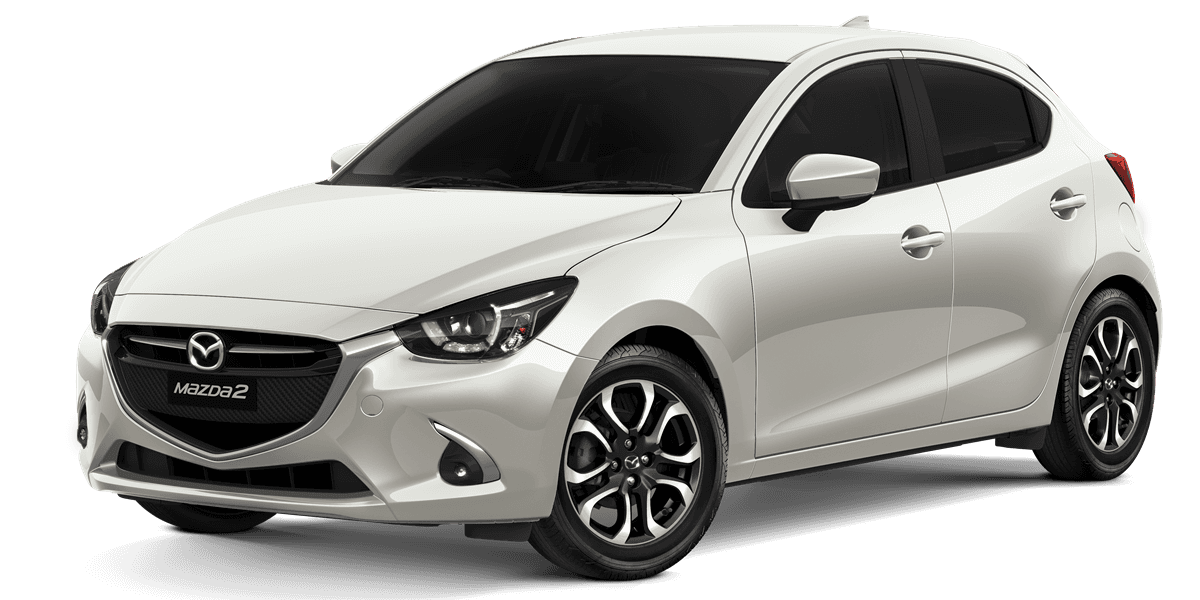sedan: (74, 26, 1164, 581)
